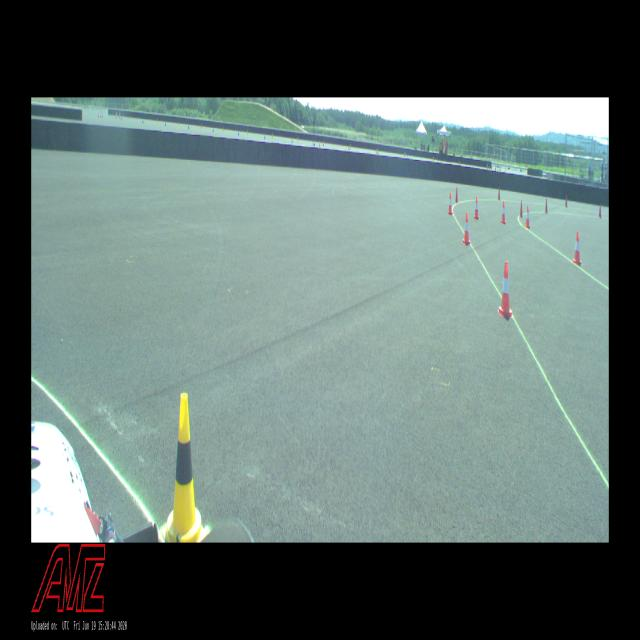orange_cone: (499, 262, 512, 317), (573, 232, 581, 266), (463, 213, 469, 244), (525, 206, 530, 229), (501, 202, 506, 224), (474, 197, 479, 219), (448, 193, 452, 215)
yellow_cone: (162, 393, 206, 542)
